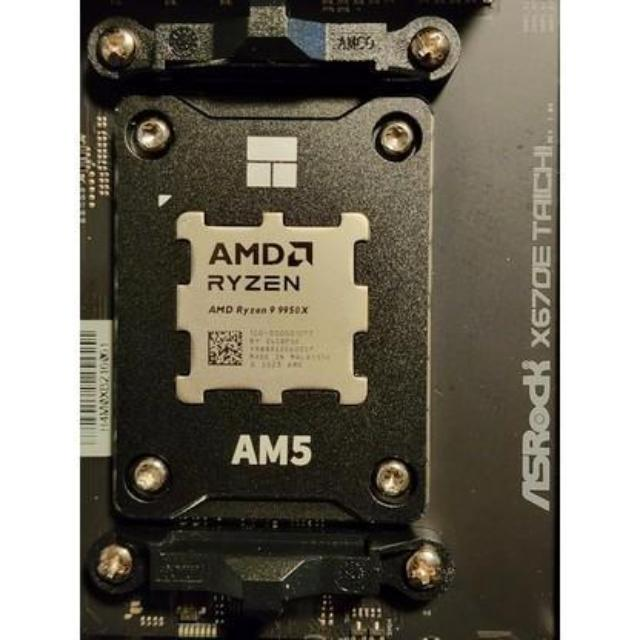CPU: (172, 208, 376, 414)
